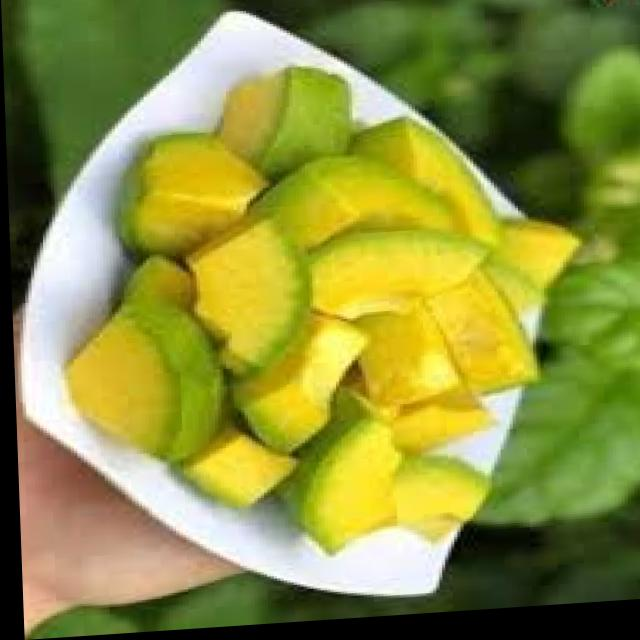Bo: (55, 53, 582, 575)
